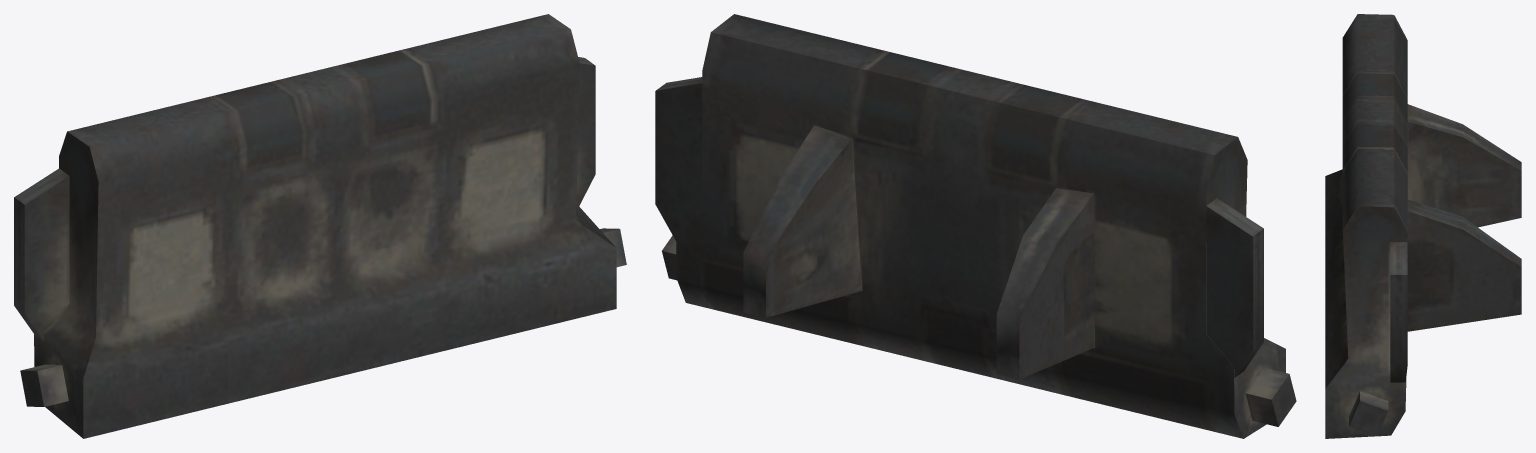
3 renders of one model, left to right at view 1: azimuth 30°, elevation 25°; view 2: azimuth 150°, elevation 25°; view 3: azimuth 270°, elevation 25°, orthographic. The views are drawn at different scales.
Visible parts, largest first — view 1: set_0_group_0; view 2: set_0_group_0; view 3: set_0_group_0.
Part boxes in pixels (bbox=[...]): set_0_group_0: bbox=[14, 14, 626, 438]; set_0_group_0: bbox=[655, 14, 1296, 438]; set_0_group_0: bbox=[1325, 14, 1521, 438].
Bounding box in the file's own units: 0.3033 × 0.135 × 0.1082.
Materials: 1 (1 with a texture image).
